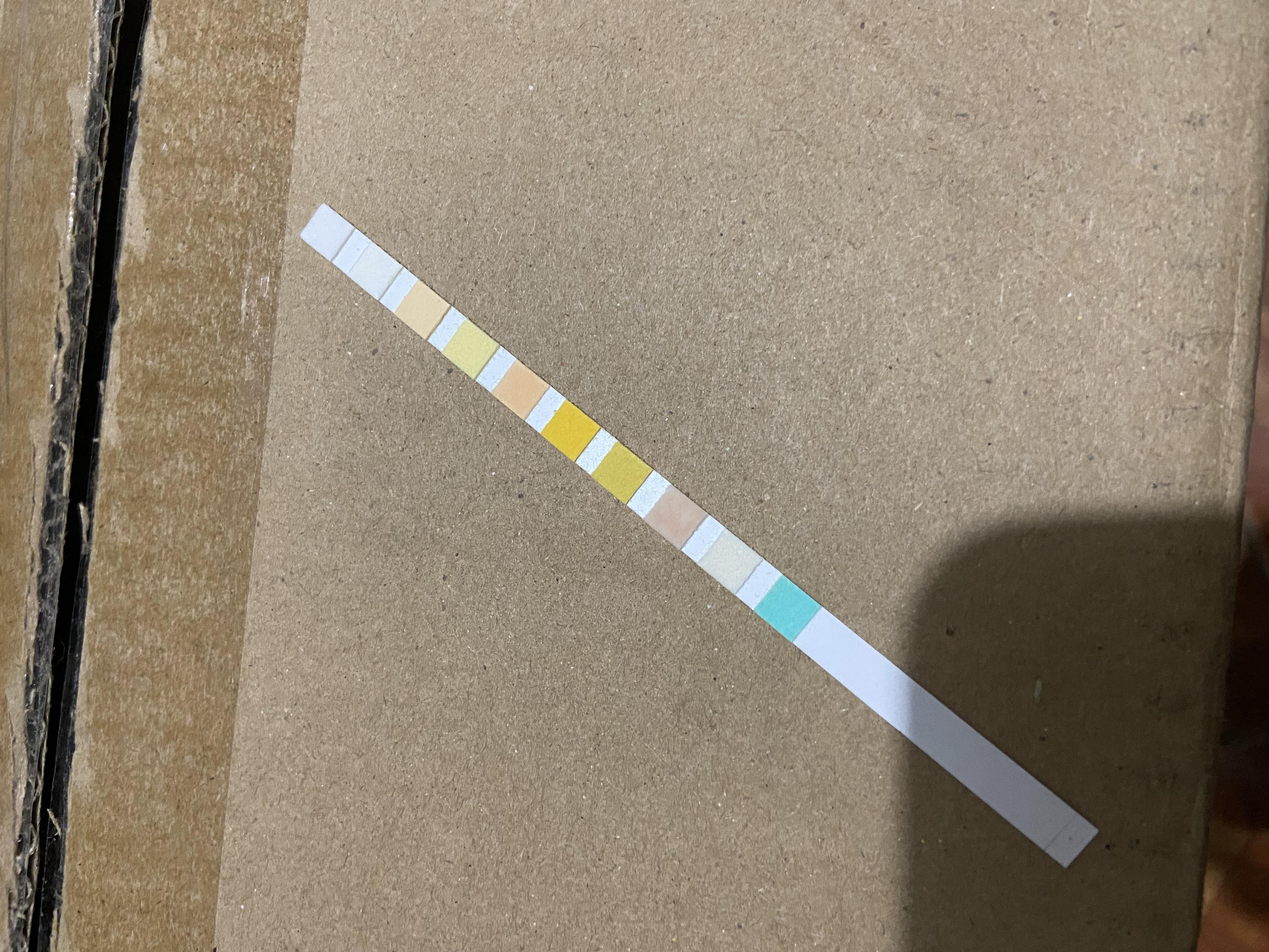Bilirubin: (715, 541, 744, 579)
Blood: (556, 412, 583, 448)
Glucose: (770, 588, 800, 626)
Ketone: (660, 497, 689, 536)
Leukocytes: (312, 217, 344, 246)
Nitrite: (359, 255, 391, 287)
Protein: (456, 331, 484, 365)
SpGravity: (605, 456, 638, 489)
Urobilinogen: (408, 293, 436, 326)
pH: (508, 371, 533, 408)
strip: (300, 202, 1099, 869)
